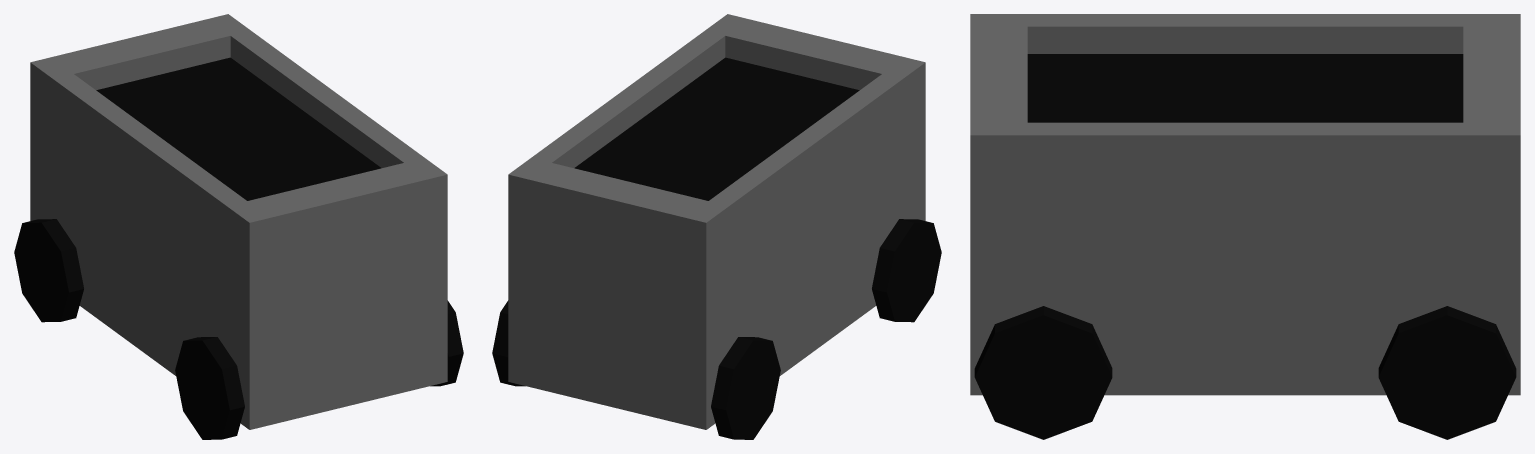
File: CartCoal.fbx
3 views of the same model, side by side, from view 1: azimuth 30°, elevation 25°; view 2: azimuth 150°, elevation 25°; view 3: azimuth 270°, elevation 25° (orthographic). The views are drawn at different scales.
Visible parts, largest first — view 1: Cube.040, Plane, Cylinder.008; view 2: Cube.040, Plane, Cylinder.008; view 3: Cube.040, Plane, Cylinder.008.
Boxes of the visible parts, x1=… form: Cube.040: x1=30, y1=14, x2=447, y2=429; Plane: x1=96, y1=57, x2=381, y2=200; Cylinder.008: x1=14, y1=219, x2=463, y2=439; Cube.040: x1=508, y1=14, x2=925, y2=429; Plane: x1=574, y1=57, x2=859, y2=200; Cylinder.008: x1=492, y1=219, x2=941, y2=439; Cube.040: x1=970, y1=14, x2=1520, y2=395; Plane: x1=1027, y1=54, x2=1463, y2=122; Cylinder.008: x1=974, y1=306, x2=1516, y2=439.
Bounding box in the file's own units: 1.95 × 1.87 × 3.18.
